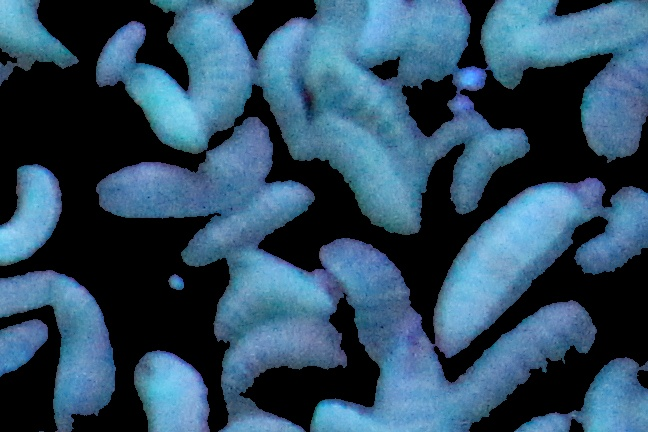larvae: (432, 174, 586, 349), (443, 286, 598, 432), (305, 48, 444, 191), (105, 118, 270, 215), (305, 110, 436, 229), (163, 9, 260, 145), (217, 317, 351, 412), (43, 265, 118, 432), (174, 181, 318, 267), (320, 228, 415, 352), (204, 258, 346, 338), (375, 314, 463, 432), (573, 52, 648, 162), (515, 8, 648, 68), (262, 6, 310, 160), (570, 186, 646, 282), (449, 127, 532, 213), (399, 2, 472, 94), (125, 63, 204, 148), (487, 1, 557, 96), (1, 1, 83, 74), (1, 172, 58, 270), (342, 1, 412, 71), (92, 19, 149, 93), (1, 311, 54, 379), (1, 260, 60, 318)
